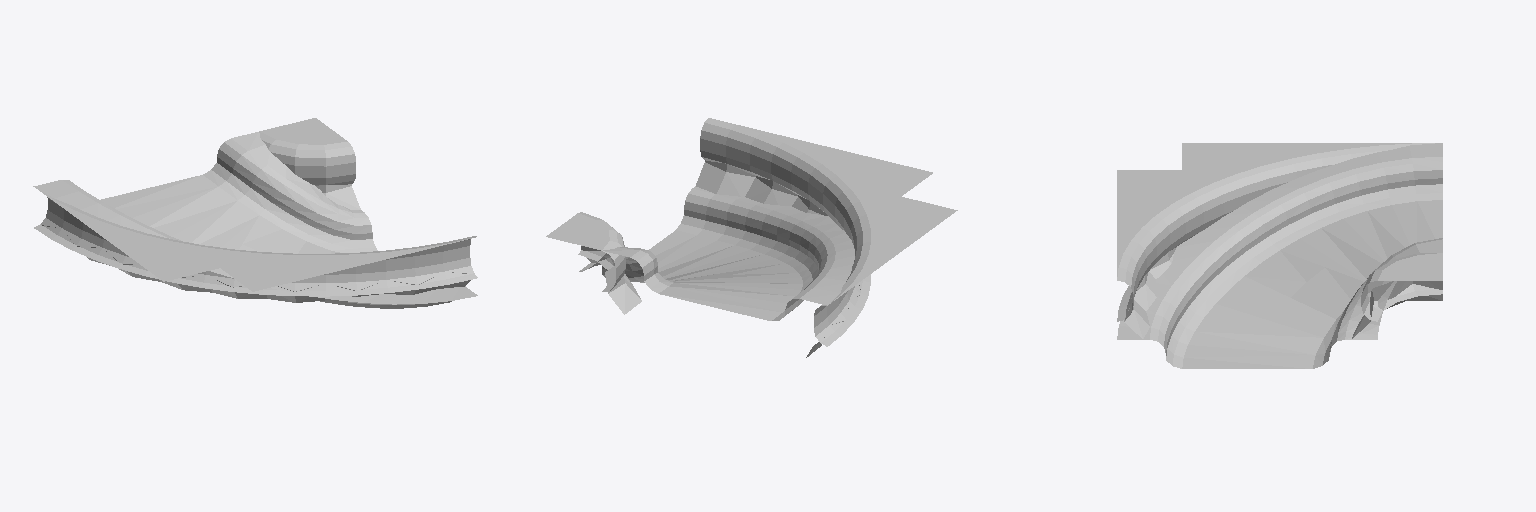
Rendered from Track_Cliff_Curve_Standard_Double_5x5.obj.
The picture shows the model from 3 angles: view 1: azimuth 30°, elevation 25°; view 2: azimuth 150°, elevation 25°; view 3: azimuth 270°, elevation 25°; orthographic projection.
Parts seen in each view (by area): view 1: Grass, Dirt, Rock; view 2: Grass, Dirt, Rock; view 3: Grass, Dirt, Rock.
Boxes of the visible parts, x1=… form: Grass: x1=33, y1=118, x2=477, y2=304; Dirt: x1=100, y1=163, x2=451, y2=308; Rock: x1=42, y1=184, x2=470, y2=302; Grass: x1=546, y1=118, x2=957, y2=346; Dirt: x1=603, y1=215, x2=818, y2=320; Rock: x1=581, y1=160, x2=860, y2=357; Grass: x1=1117, y1=143, x2=1442, y2=356; Dirt: x1=1166, y1=184, x2=1442, y2=368; Rock: x1=1124, y1=231, x2=1442, y2=338.
Size of the model in its own units: 5 by 1.5 by 5.